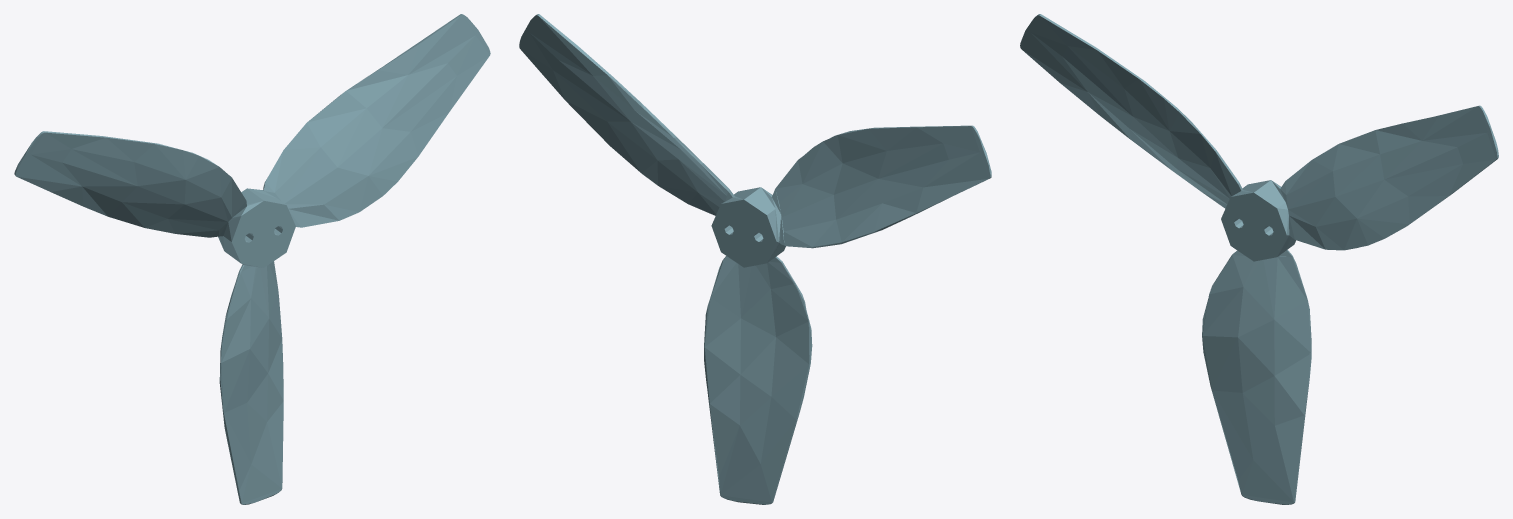
Rendered from sunray150_propeller_rotor_0_link_local.obj.
3 renders of one model, left to right at view 1: azimuth 30°, elevation 25°; view 2: azimuth 150°, elevation 25°; view 3: azimuth 330°, elevation 25°, orthographic. The views are drawn at different scales.
Parts seen in each view (by area): view 1: TriBlade_flipped_around_screw_axis_rotor_0_front_right_sunray_cw; view 2: TriBlade_flipped_around_screw_axis_rotor_0_front_right_sunray_cw; view 3: TriBlade_flipped_around_screw_axis_rotor_0_front_right_sunray_cw.
Boxes of the visible parts, bbox=[...] form: TriBlade_flipped_around_screw_axis_rotor_0_front_right_sunray_cw: bbox=[14, 14, 490, 504]; TriBlade_flipped_around_screw_axis_rotor_0_front_right_sunray_cw: bbox=[519, 14, 991, 504]; TriBlade_flipped_around_screw_axis_rotor_0_front_right_sunray_cw: bbox=[1020, 14, 1498, 504].
Size of the model in its own units: 0.0805 by 0.0711 by 0.00731.
